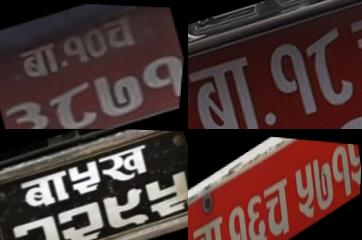0: (80, 22, 113, 59)
1: (256, 28, 331, 126), (136, 47, 185, 107), (326, 139, 356, 205), (224, 194, 253, 240), (61, 30, 92, 67)
2: (52, 193, 114, 240), (9, 206, 72, 240)
3: (1, 92, 61, 129)
5: (139, 165, 188, 221), (62, 152, 110, 202), (289, 153, 320, 226), (344, 140, 362, 192)
6: (242, 183, 272, 240)
7: (88, 60, 152, 122), (308, 142, 339, 216)
8: (294, 15, 362, 114), (45, 76, 105, 129)
9: (98, 180, 156, 235)
ba: (188, 45, 276, 129), (13, 162, 80, 220), (15, 38, 65, 84), (189, 205, 232, 240)
cha: (259, 167, 296, 240), (338, 0, 362, 103), (100, 11, 140, 53)
kha: (93, 134, 160, 192)
